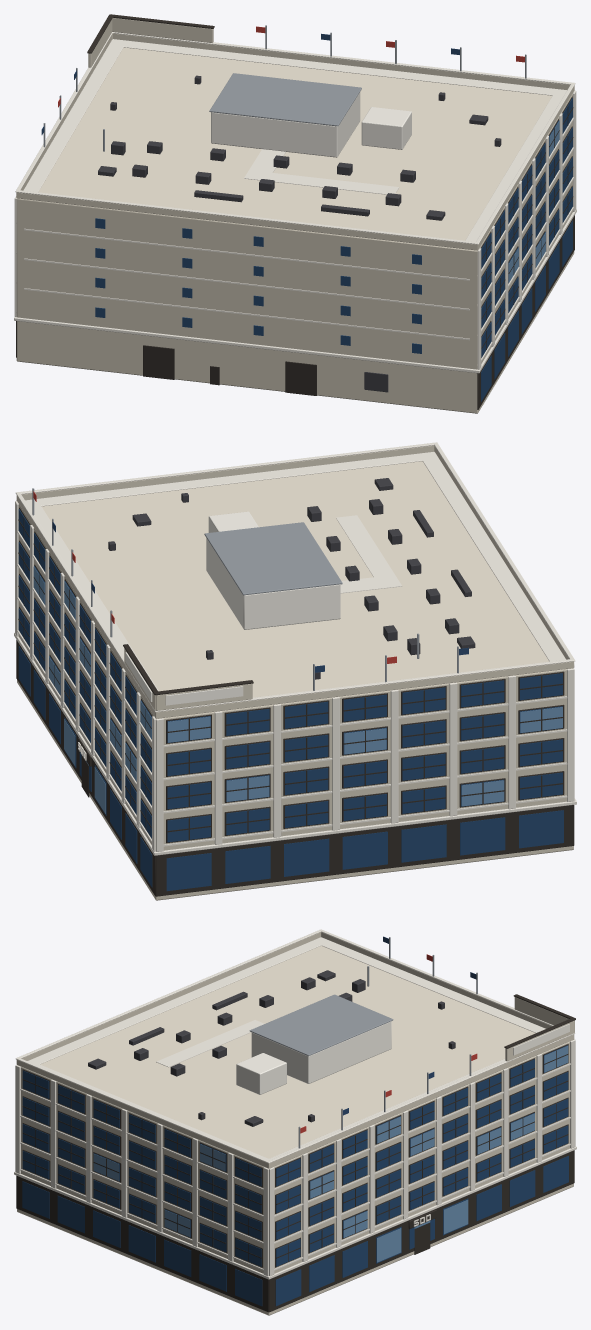
Rendered from mid.glb.
3 renders of one model, top to bottom at view 1: azimuth 30°, elevation 25°; view 2: azimuth 150°, elevation 25°; view 3: azimuth 270°, elevation 25°, orthographic. The views are drawn at different scales.
Parts seen in each view (by area): view 1: body, grp_Toy_trim, grp_Toy_glass, grp_Toy_stone, grp_Toy_white, grp_Toy_ink, grp_Toy_steel, grp_Toy_roofd, grp_Toy_glassl_Glow; view 2: body, grp_Toy_glass, grp_Toy_trim, grp_Toy_ink, grp_Toy_stone, grp_Toy_steel, grp_Toy_glassl_Glow, grp_Toy_white, grp_Toy_roofd, grp_Toy_white_Glow; view 3: body, grp_Toy_glass, grp_Toy_trim, grp_Toy_ink, grp_Toy_stone, grp_Toy_glassl_Glow, grp_Toy_white, grp_Toy_steel, grp_Toy_roofd, grp_Toy_white_Glow.
Boxes of the visible parts, x1,y1,x2,y2 form: body: [16, 40, 574, 413]; grp_Toy_trim: [14, 32, 576, 373]; grp_Toy_glass: [95, 98, 572, 401]; grp_Toy_stone: [16, 18, 574, 250]; grp_Toy_white: [211, 92, 411, 157]; grp_Toy_ink: [16, 14, 574, 409]; grp_Toy_steel: [43, 25, 526, 151]; grp_Toy_roofd: [98, 75, 501, 392]; grp_Toy_glassl_Glow: [508, 121, 559, 282]; body: [17, 461, 573, 900]; grp_Toy_glass: [18, 509, 563, 891]; grp_Toy_trim: [14, 442, 576, 855]; grp_Toy_ink: [16, 507, 574, 896]; grp_Toy_stone: [16, 445, 574, 718]; grp_Toy_steel: [32, 488, 458, 690]; grp_Toy_glassl_Glow: [33, 567, 562, 813]; grp_Toy_white: [206, 511, 340, 629]; grp_Toy_roofd: [108, 478, 475, 679]; grp_Toy_white_Glow: [125, 652, 243, 705]; body: [17, 945, 573, 1315]; grp_Toy_glass: [22, 1045, 568, 1306]; grp_Toy_trim: [14, 929, 576, 1279]; grp_Toy_ink: [16, 994, 575, 1312]; grp_Toy_stone: [16, 932, 574, 1168]; grp_Toy_glassl_Glow: [93, 1046, 568, 1262]; grp_Toy_white: [236, 1021, 391, 1094]; grp_Toy_steel: [249, 937, 477, 1148]; grp_Toy_roofd: [88, 970, 455, 1126]; grp_Toy_white_Glow: [513, 1024, 569, 1055].
Size of the model in its own units: 75.24 by 26.5 by 76.24.
